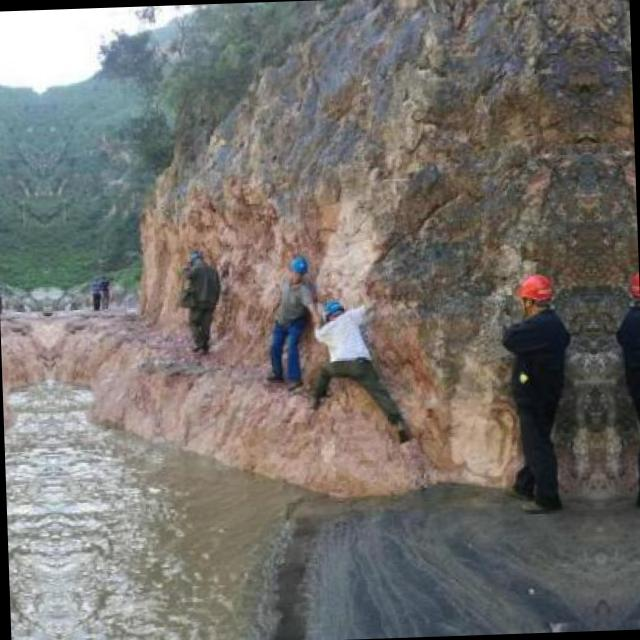helmet: (512, 270, 553, 312), (318, 297, 348, 327), (284, 252, 308, 285), (182, 246, 204, 268)
